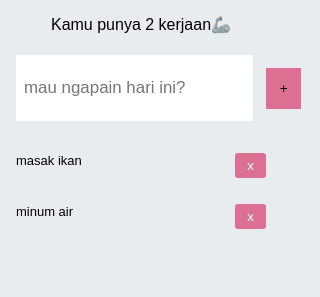
it: Renders Todo List Correctly › should success add tasks
In the field named "input-todo": (134, 88) [16,55,253,121], type "mengaji"
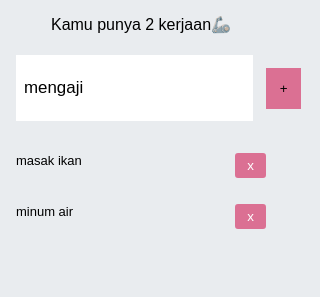
Click the button "+": (284, 88) [266,68,301,109]
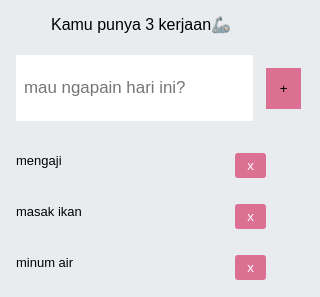
Result: the text "mengaji" is shown at [16,153,62,168]
